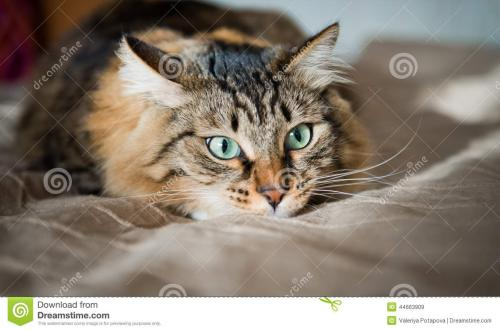cat: (75, 18, 371, 232)
